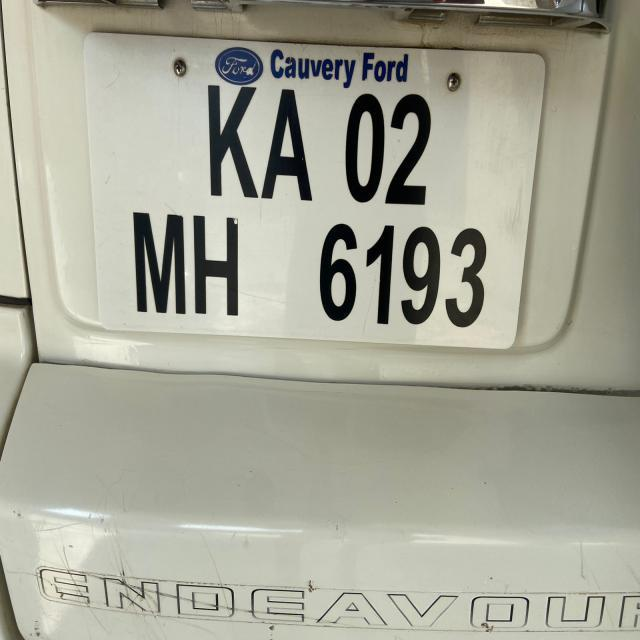0: (337, 87, 385, 207)
1: (361, 219, 397, 328)
3: (445, 223, 492, 335)
6: (313, 212, 365, 329)
9: (396, 218, 449, 328)
A: (260, 71, 321, 208)
H: (190, 206, 250, 324)
K: (197, 74, 262, 204)
M: (125, 192, 190, 321)
